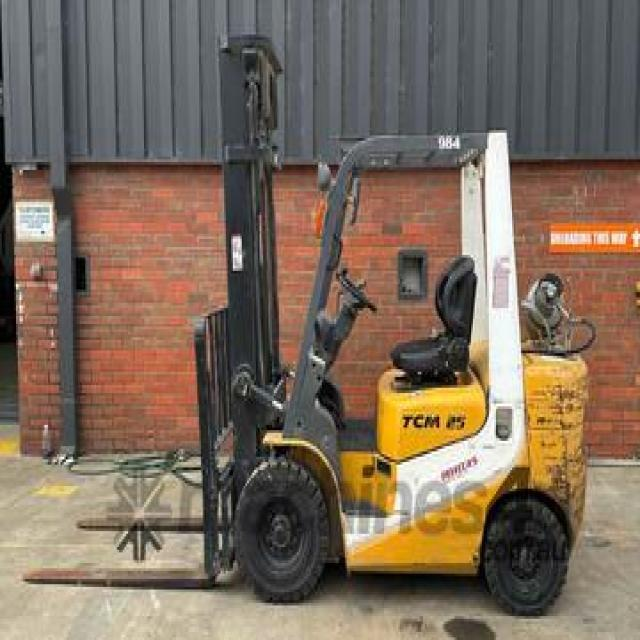forklift: (159, 27, 590, 626)
